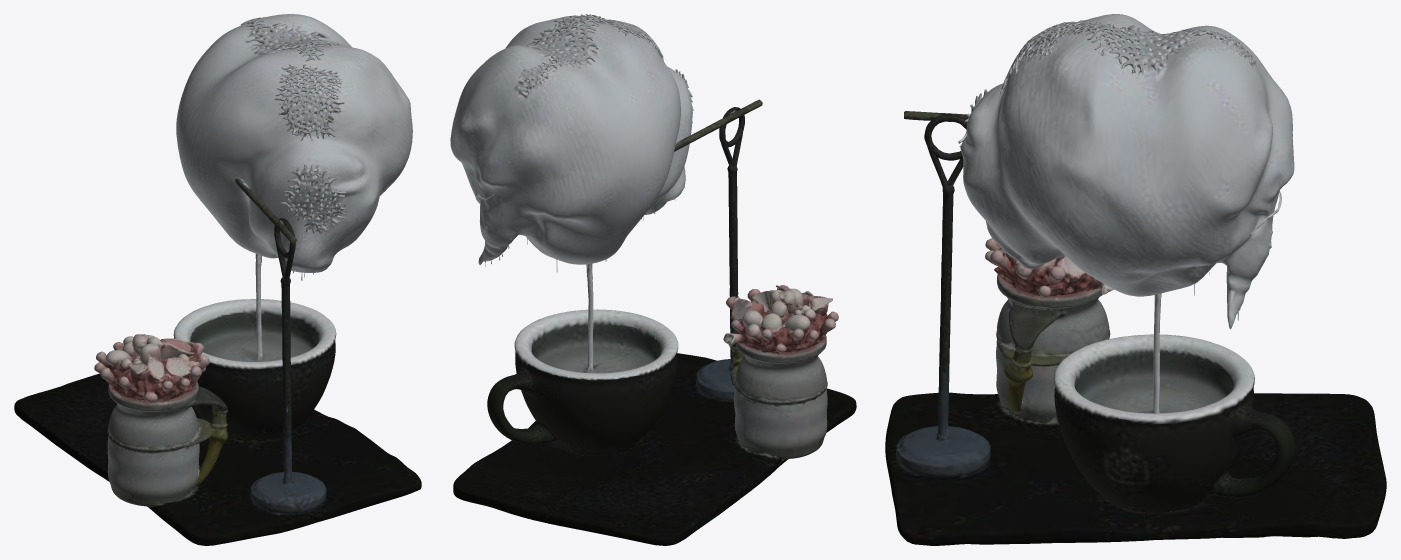
File: cotton-candy.glb
3 renders of one model, left to right at view 1: azimuth 30°, elevation 25°; view 2: azimuth 150°, elevation 25°; view 3: azimuth 270°, elevation 25°, orthographic. The views are drawn at different scales.
Parts seen in each view (by area): view 1: tripo_node_dd876b00-6bdf-4d63-964f-fa6159ed0354; view 2: tripo_node_dd876b00-6bdf-4d63-964f-fa6159ed0354; view 3: tripo_node_dd876b00-6bdf-4d63-964f-fa6159ed0354.
Boxes of the visible parts, box(x1,y1,x2,y2) form: tripo_node_dd876b00-6bdf-4d63-964f-fa6159ed0354: box(14, 14, 421, 545); tripo_node_dd876b00-6bdf-4d63-964f-fa6159ed0354: box(450, 14, 856, 545); tripo_node_dd876b00-6bdf-4d63-964f-fa6159ed0354: box(885, 14, 1386, 545).
Size of the model in its own units: 0.8377 by 0.9795 by 0.895.
Materials: 1 (1 with a texture image).
